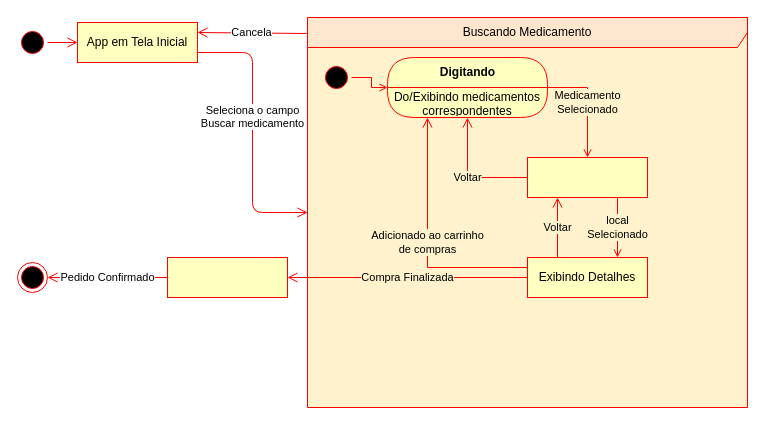
The diagram is 765 pixels wide and 425 high, and some of its shapes have lost their labels. Here are the shapes that lost their labels. From the top down, the centre of each, then its label:
At [587,177]: "Exibindo locais para compra".
At [227,277]: "Confirmando pedido, endereço e pagamento".
